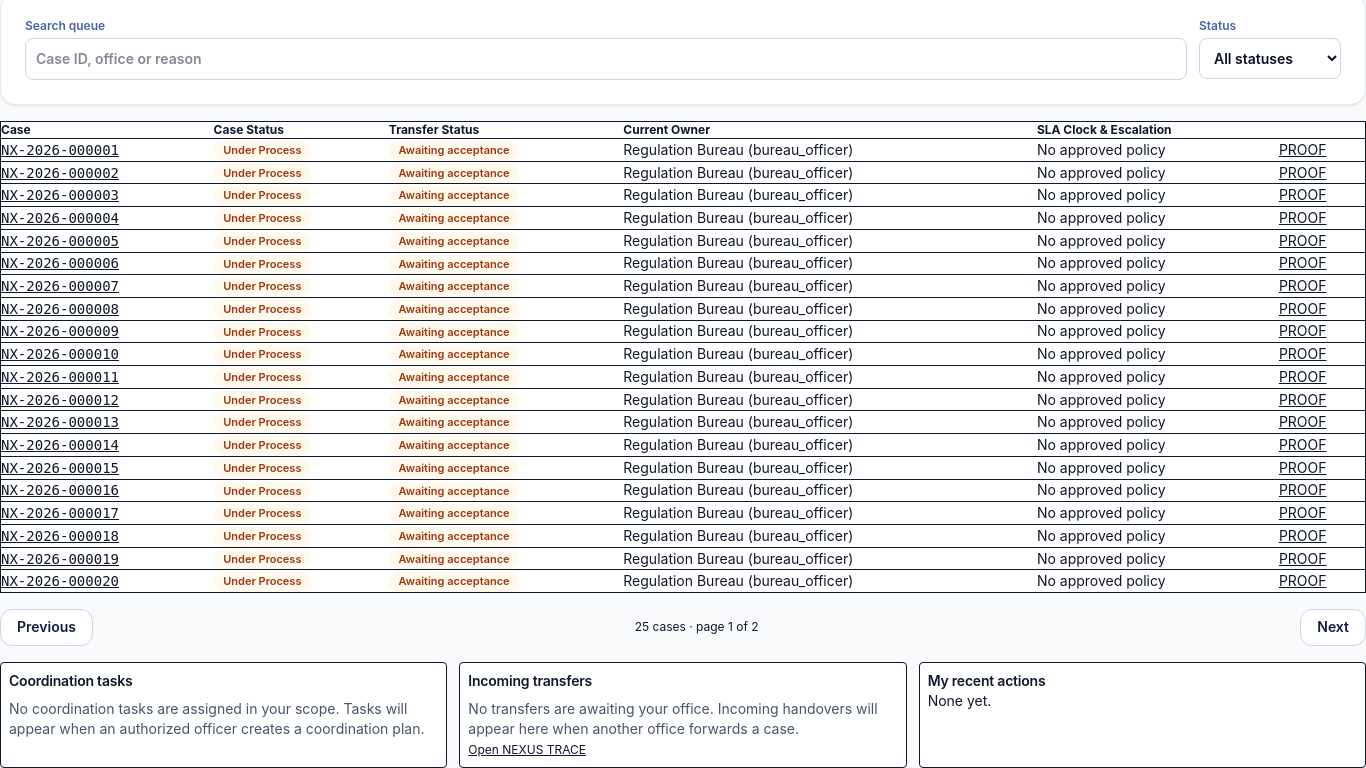
Scenario: [N28] queue pagination and filtering retain clickable case IDs and explain a missing SLA without exposing its code
The image size is (1366, 768).
(page scrolled)
Expected: the link "NX-2026-000025" is not shown
Click the button "Next" at (1333, 627), box [1300,609,1365,646]
(page scrolled)
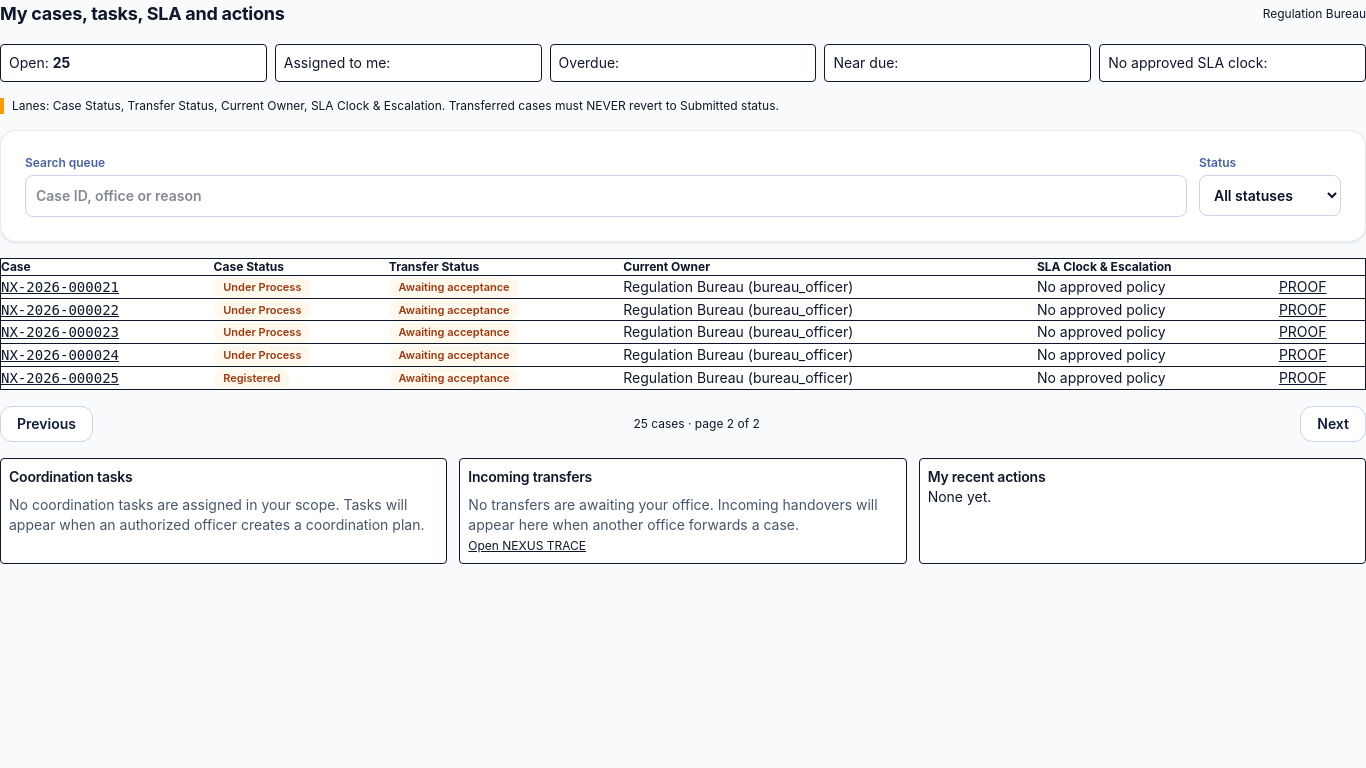
Result: the link "NX-2026-000025" is shown at [1,370,119,386]
Type "000025" into the field labelled "Search queue" at (606, 196), box [25,175,1187,217]
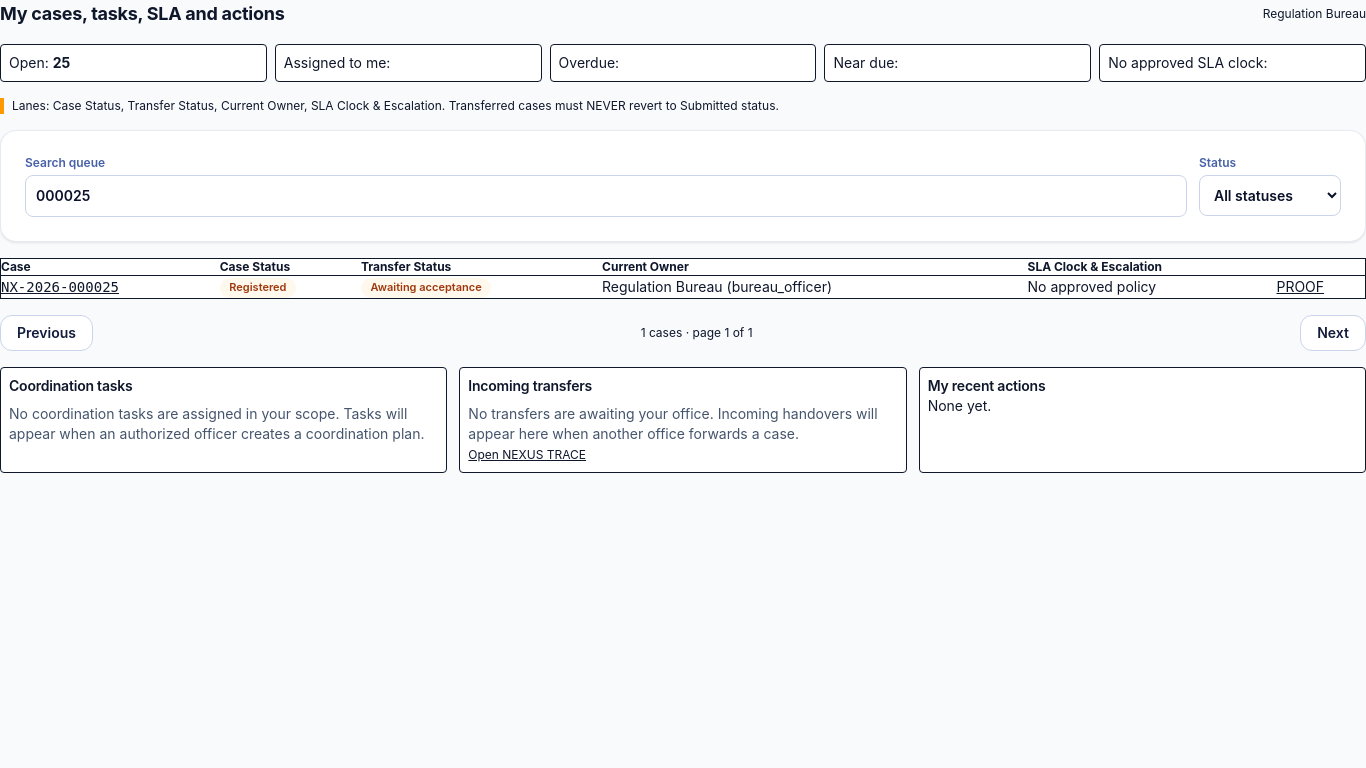
Result: the number of links "NX-2026-000025" is 1 at [1,279,119,295]
